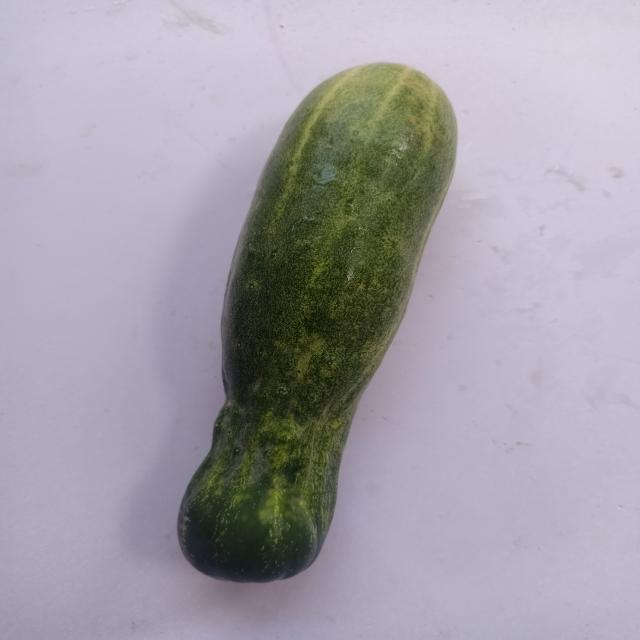Cucumber: (177, 62, 457, 583)
